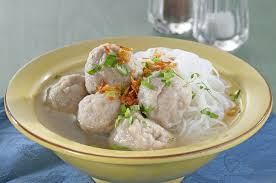bakso: (48, 40, 229, 153)
